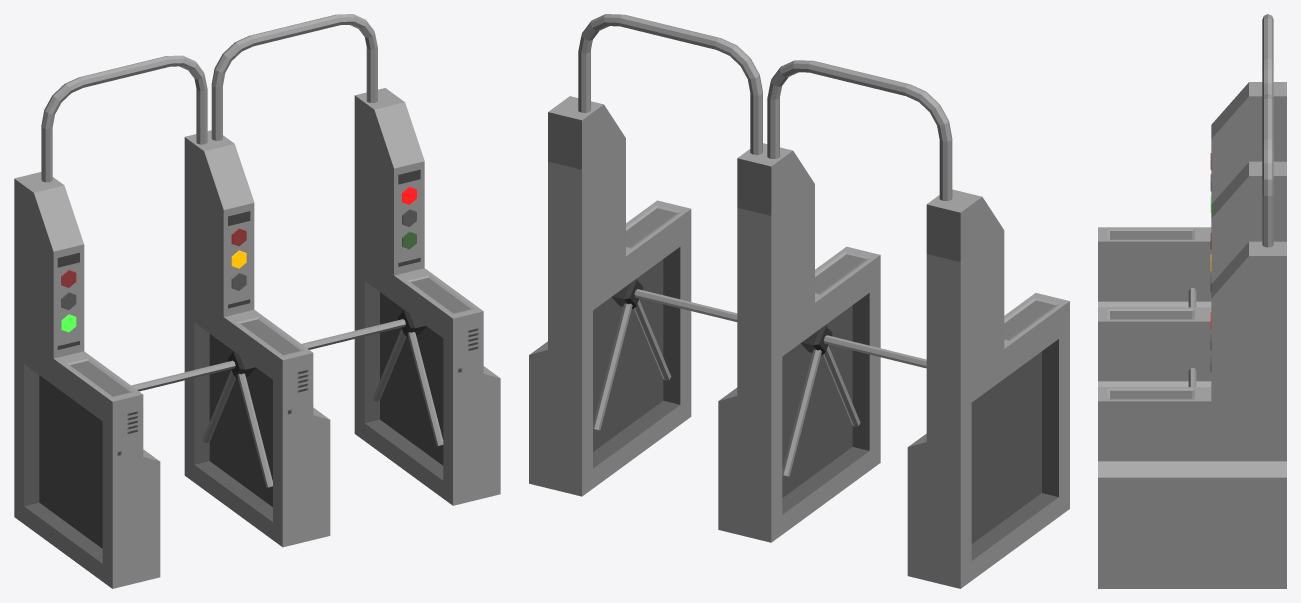
Rendered from SM_Train_Subway_Station_Props_TicketBarrier_01.fbx.
The picture shows the model from 3 angles, left to right: view 1: azimuth 30°, elevation 25°; view 2: azimuth 150°, elevation 25°; view 3: azimuth 270°, elevation 25°; orthographic projection. The views are drawn at different scales.
Visible parts, largest first — view 1: SM_Train_Subway_Station_Props_TicketBarrier_01; view 2: SM_Train_Subway_Station_Props_TicketBarrier_01; view 3: SM_Train_Subway_Station_Props_TicketBarrier_01.
Boxes of the visible parts, x1,y1,x2,y2 form: SM_Train_Subway_Station_Props_TicketBarrier_01: [14, 14, 500, 588]; SM_Train_Subway_Station_Props_TicketBarrier_01: [529, 14, 1069, 588]; SM_Train_Subway_Station_Props_TicketBarrier_01: [1098, 14, 1286, 588].
Bounding box in the file's own units: 228 × 243 × 100.
